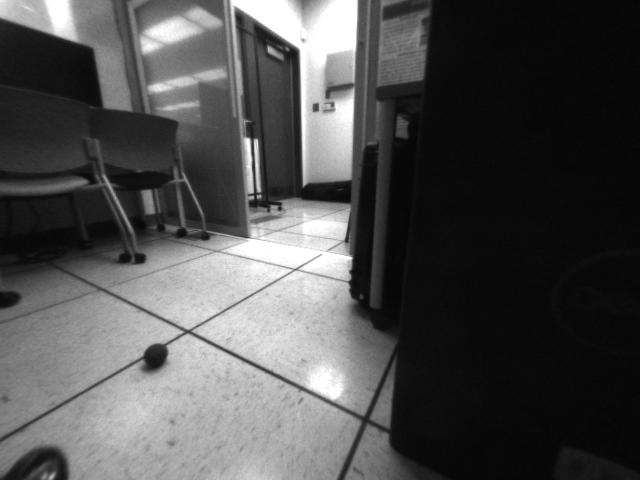dogtoy: (137, 339, 178, 374)
